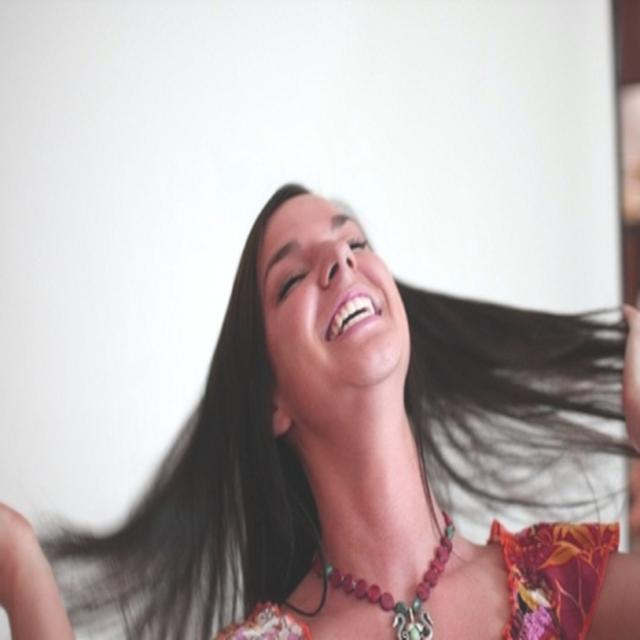piel: (260, 194, 514, 640), (0, 503, 78, 640), (583, 548, 640, 640), (624, 300, 640, 472)
